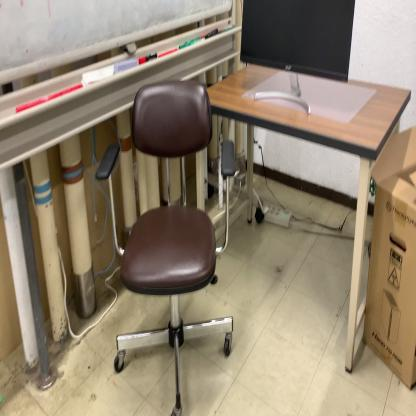chair: (95, 78, 237, 416)
